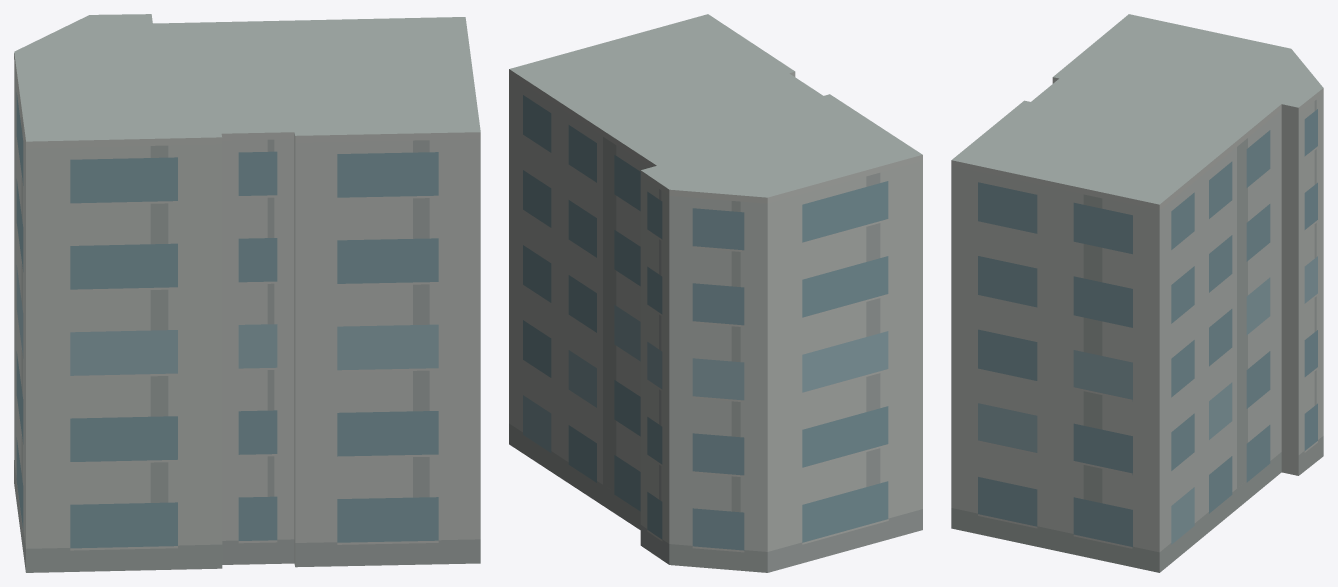
Rendered from survey-upis-32891608.glb.
3 views of the same model, side by side, from view 1: azimuth 30°, elevation 25°; view 2: azimuth 150°, elevation 25°; view 3: azimuth 270°, elevation 25° (orthographic). The views are drawn at different scales.
Parts seen in each view (by area): view 1: survey-upis-32891608.tmp; view 2: survey-upis-32891608.tmp; view 3: survey-upis-32891608.tmp.
Part boxes in pixels (left/top/right/bottom): survey-upis-32891608.tmp: left=14, top=14, right=480, bottom=572; survey-upis-32891608.tmp: left=509, top=14, right=922, bottom=572; survey-upis-32891608.tmp: left=951, top=14, right=1323, bottom=572.
Size of the model in its own units: 16.61 by 14.95 by 13.7.
